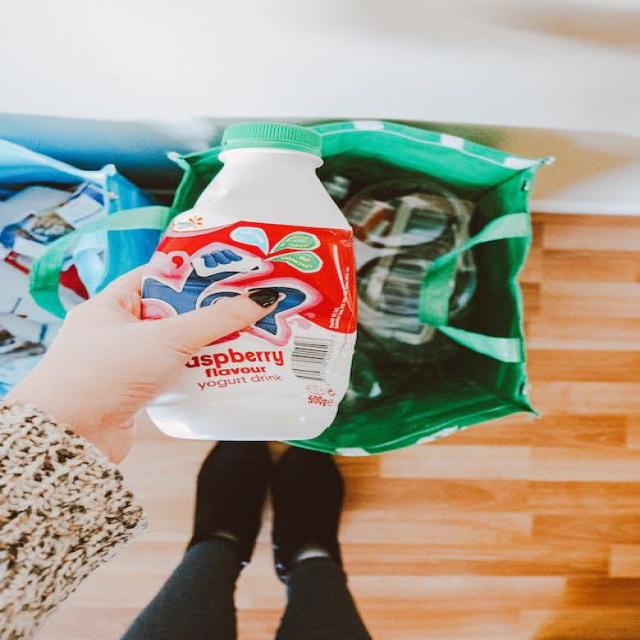plastic: (130, 104, 350, 457), (365, 177, 479, 400)
